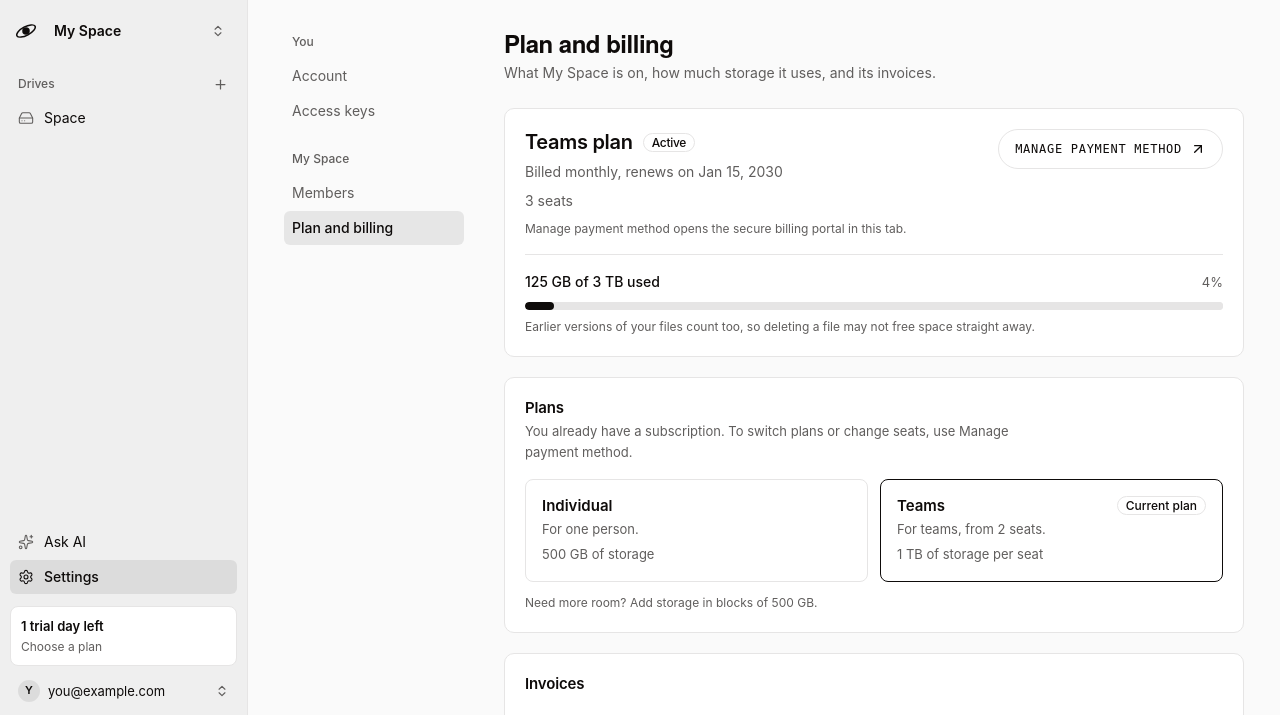
Test: hands a subscriber to the billing portal and refuses an unsafe link
This screenshot has width=1280, height=715.
Expected: the text "Billed monthly, renews on Jan 15, 2030" is shown, [525,161,783,184]
Expected: the text "3 seats" is shown, [525,192,573,209]
Click the button "Manage payment method".
click(1111, 149)  # box [998,129,1223,169]
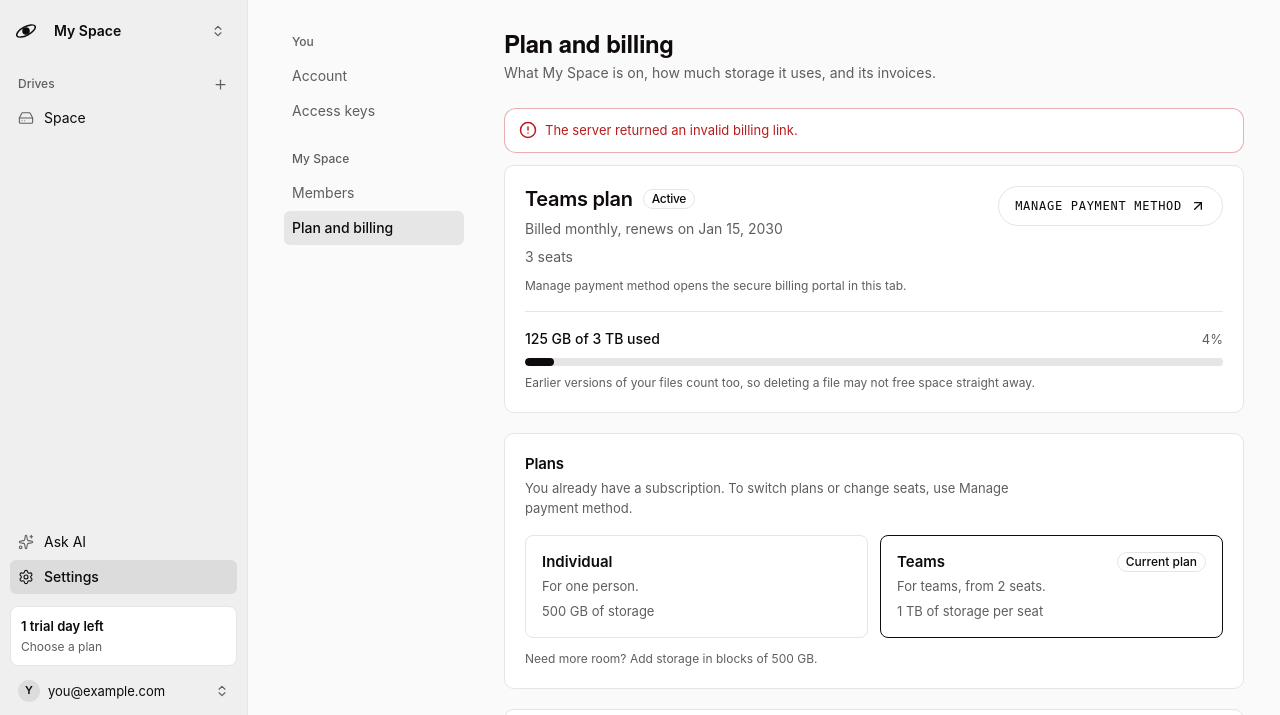
Expected: the button "Manage payment method" is enabled, [998,186,1223,226]
Result: the message shows "invalid billing link" at [545,122,798,138]
